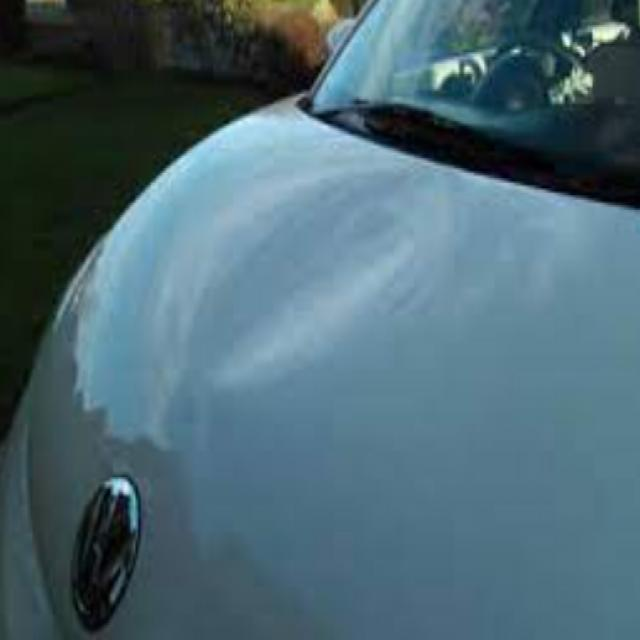dents: (222, 152, 431, 396)
